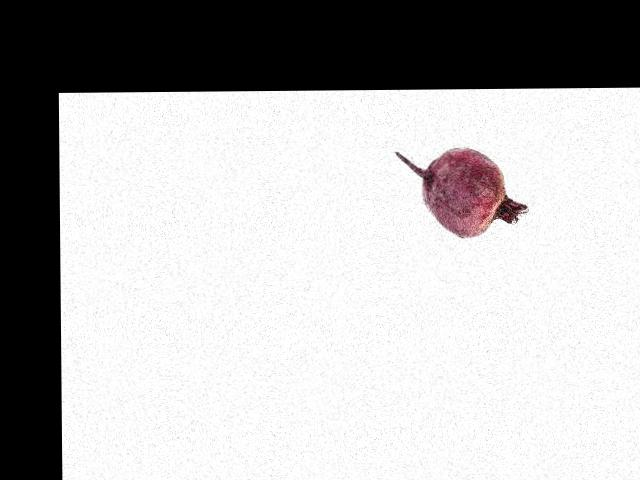beet: (397, 147, 528, 237)
